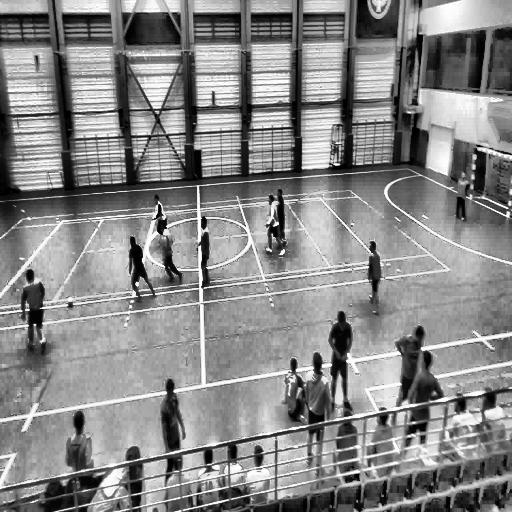ball: (67, 297, 75, 309)
player: (296, 354, 330, 476), (394, 324, 425, 407), (20, 268, 49, 354), (161, 378, 186, 472), (329, 313, 352, 414), (128, 235, 156, 299), (161, 220, 182, 283), (365, 240, 382, 314), (265, 194, 281, 254), (198, 216, 210, 288), (274, 188, 288, 249), (453, 171, 469, 221), (150, 192, 168, 236)
